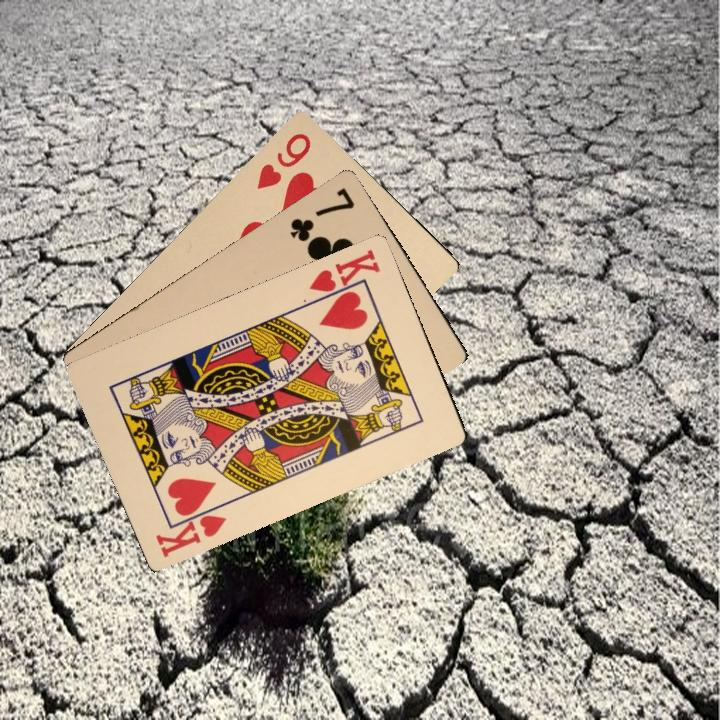7c: (286, 184, 358, 245)
9h: (252, 129, 314, 193)
Kh: (304, 245, 383, 305), (151, 500, 229, 560)
